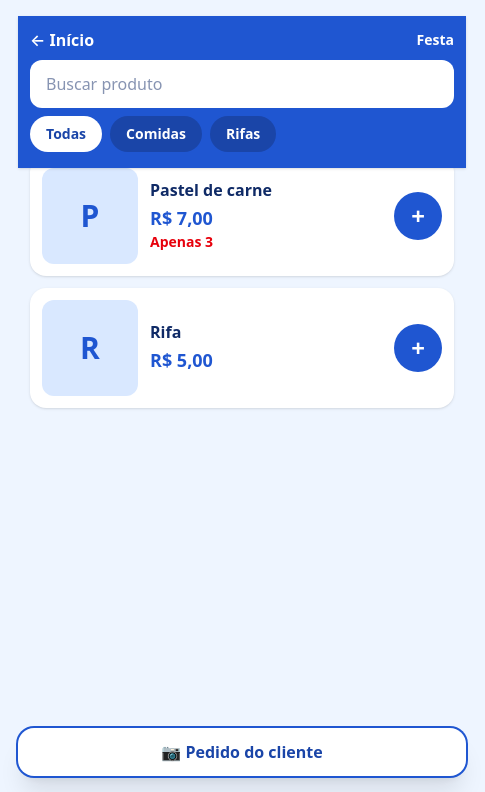
PDV: adicionar e remover itens › não funciona em contexto sem crypto.randomUUID (http fora de localhost)?
Step 1. Click the text "Rifa" → (166, 332), box [150, 321, 181, 343]
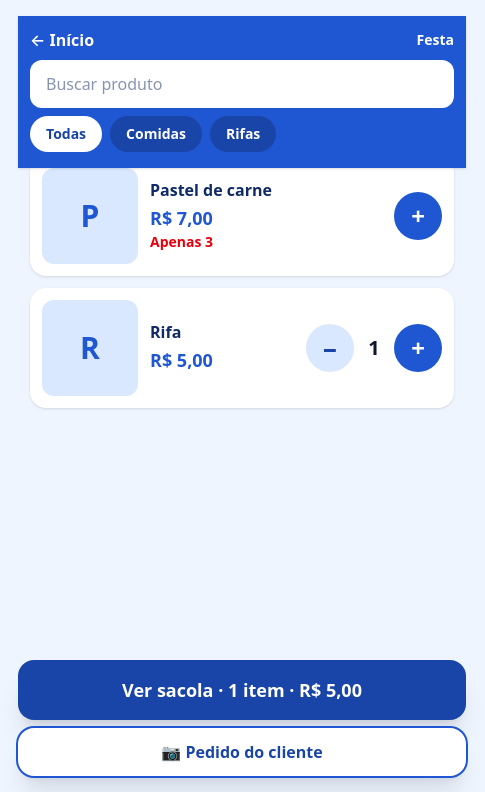
Expected: the button "Ver sacola · 1 item · R$ 5,00" is shown, [18, 660, 466, 720]
